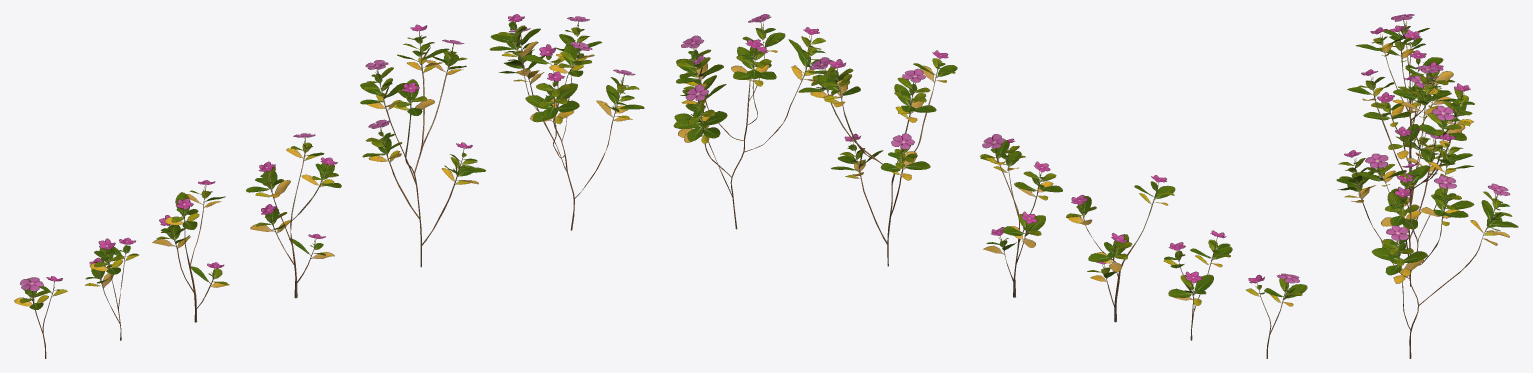
Rendered from periwinkle_plant.glb.
3 views of the same model, side by side, from view 1: azimuth 30°, elevation 25°; view 2: azimuth 150°, elevation 25°; view 3: azimuth 270°, elevation 25° (orthographic). The views are drawn at different scales.
Visible parts, largest first — view 1: periwinkle_plant_04_LOD0; view 2: periwinkle_plant_04_LOD0; view 3: periwinkle_plant_04_LOD0.
Part boxes in pixels (bbox=[...]): periwinkle_plant_04_LOD0: bbox=[14, 14, 644, 358]; periwinkle_plant_04_LOD0: bbox=[673, 14, 1307, 358]; periwinkle_plant_04_LOD0: bbox=[1336, 14, 1518, 358].
Size of the model in its own units: 1.24 by 0.4107 by 0.3208.
1 material, 1 textured.
